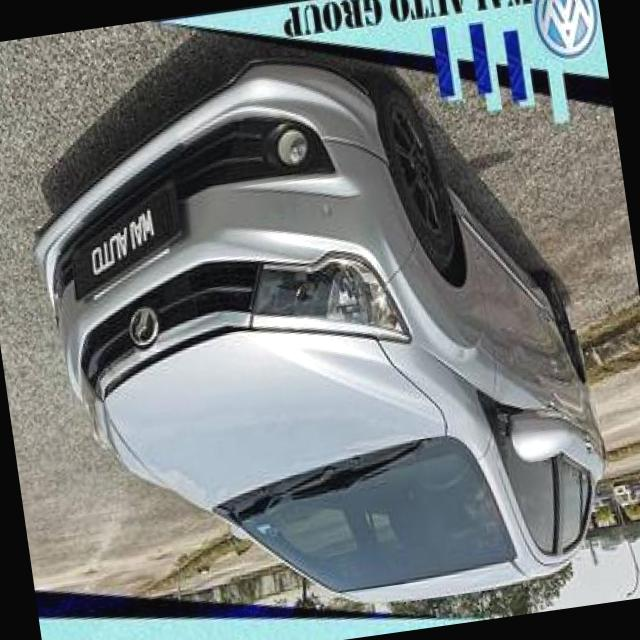PeroduaBezza: (11, 19, 626, 640)
